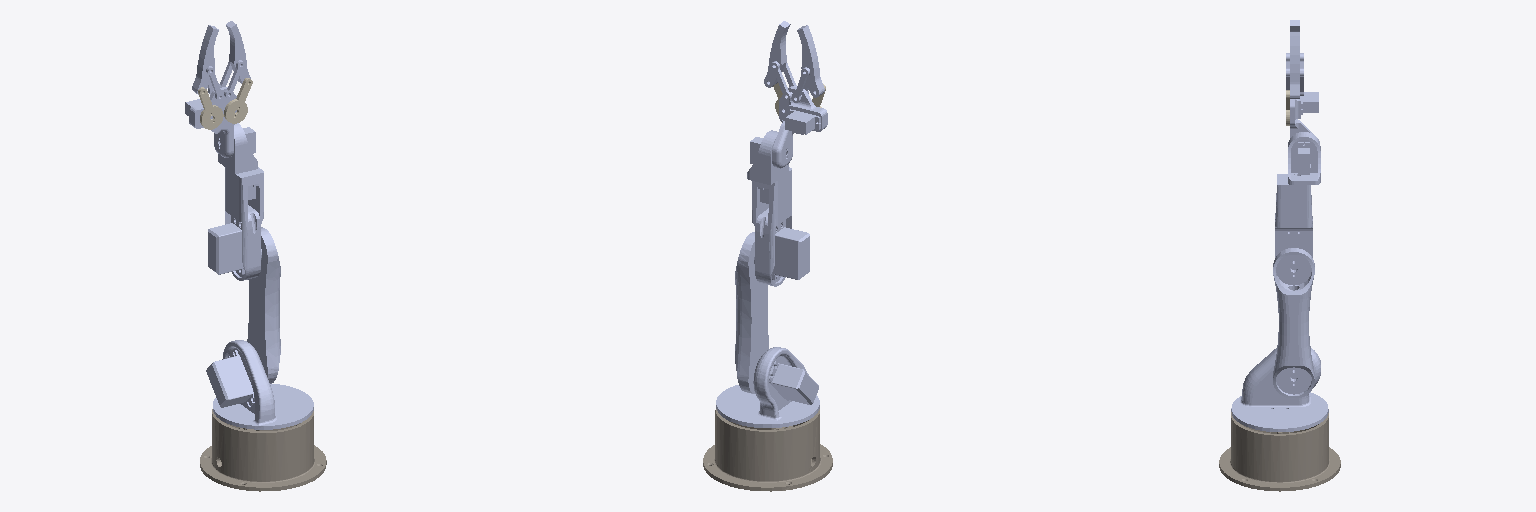
The robot description file, URDF, robot "my_urdf":
<?xml version="1.0" encoding="utf-8"?>
<!-- This URDF was automatically created by SolidWorks to URDF Exporter! Originally created by [author] ([email redacted]) 
     Commit Version: 1.6.0-4-g7f85cfe  Build Version: 1.6.7995.38578
     For more information, please see http://wiki.ros.org/sw_urdf_exporter -->
<robot
  name="my_urdf">
    <!-- 添加一个虚拟的 world link -->
  <link name="world"/>

  <!-- 将 world 连接到 base_link -->
  <joint name="world_to_base" type="fixed">
    <parent link="world"/>
    <child link="base_link"/>
    <origin xyz="0 0 0" rpy="0 0 0"/>
  </joint>
  <link
    name="base_link">
    <inertial>
      <origin
        xyz="0.0025107 2.5745E-07 0.014365"
        rpy="0 0 0" />
      <mass
        value="0.13062" />
      <inertia
        ixx="0.00013435"
        ixy="1.3434E-09"
        ixz="-2.1737E-06"
        iyy="0.00013984"
        iyz="6.6089E-10"
        izz="0.00020719" />
    </inertial>
    <visual>
      <origin
        xyz="0 0 0"
        rpy="0 0 0" />
      <geometry>
        <mesh
          filename="package://my_urdf/meshes/base_link.STL" />
      </geometry>
      <material
        name="base_link_material">
        <color
          rgba="0.64706 0.61961 0.58824 1" />
      </material>
    </visual>
    <collision>
      <origin
        xyz="0 0 0"
        rpy="0 0 0" />
      <geometry>
        <mesh
          filename="package://my_urdf/meshes/base_link.STL" />
      </geometry>
    </collision>
  </link>
  <link
    name="link1">
    <inertial>
      <origin
        xyz="-0.013889 0.0031829 0.023743"
        rpy="0 0 0" />
      <mass
        value="0.10712" />
      <inertia
        ixx="7.3474E-05"
        ixy="2.0176E-08"
        ixz="6.1163E-06"
        iyy="5.7803E-05"
        iyz="-8.5396E-06"
        izz="6.7542E-05" />
    </inertial>
    <visual>
      <origin
        xyz="0 0 0"
        rpy="0 0 0" />
      <geometry>
        <mesh
          filename="package://my_urdf/meshes/link1.STL" />
      </geometry>
      <material
        name="link1_material">
        <color
          rgba="0.79216 0.81961 0.93333 1" />
      </material>
    </visual>
    <collision>
      <origin
        xyz="0 0 0"
        rpy="0 0 0" />
      <geometry>
        <mesh
          filename="package://my_urdf/meshes/link1.STL" />
      </geometry>
    </collision>
  </link>
  <joint
    name="joint1"
    type="revolute">
    <origin
      xyz="0 0 0.0494"
      rpy="0 0 0" />
    <parent
      link="base_link" />
    <child
      link="link1" />
    <axis
      xyz="0 0 1" />
    <limit
      lower="-2.09"
      upper="2.09"
      effort="1.96"
      velocity="3.14" />
  </joint>
  <link
    name="link2">
    <inertial>
      <origin
        xyz="8.5659E-08 0.059964 0.0078473"
        rpy="0 0 0" />
      <mass
        value="0.064838" />
      <inertia
        ixx="0.00010586"
        ixy="4.5428E-10"
        ixz="9.5397E-12"
        iyy="9.4488E-06"
        iyz="2.4801E-09"
        izz="0.00011087" />
    </inertial>
    <visual>
      <origin
        xyz="0 0 0"
        rpy="0 0 0" />
      <geometry>
        <mesh
          filename="package://my_urdf/meshes/link2.STL" />
      </geometry>
      <material
        name="link2_material">
        <color
          rgba="0.79216 0.81961 0.93333 1" />
      </material>
    </visual>
    <collision>
      <origin
        xyz="0 0 0"
        rpy="0 0 0" />
      <geometry>
        <mesh
          filename="package://my_urdf/meshes/link2.STL" />
      </geometry>
    </collision>
  </link>
  <joint
    name="joint2"
    type="revolute">
    <origin
      xyz="0.001 0.01391 0.04028"
      rpy="1.5708 0 1.5708" />
    <parent
      link="link1" />
    <child
      link="link2" />
    <axis
      xyz="0 0 1" />
    <limit
      lower="-1.57"
      upper="1.57"
      effort="1.96"
      velocity="3.14" />
  </joint>
  <link
    name="link3">
    <inertial>
      <origin
        xyz="1.6318E-05 -0.031392 0.019078"
        rpy="0 0 0" />
      <mass
        value="0.090982" />
      <inertia
        ixx="6.557E-05"
        ixy="-3.4803E-08"
        ixz="5.9501E-10"
        iyy="1.5641E-05"
        iyz="6.4756E-07"
        izz="6.5685E-05" />
    </inertial>
    <visual>
      <origin
        xyz="0 0 0"
        rpy="0 0 0" />
      <geometry>
        <mesh
          filename="package://my_urdf/meshes/link3.STL" />
      </geometry>
      <material
        name="link3_material">
        <color
          rgba="0.79216 0.81961 0.93333 1" />
      </material>
    </visual>
    <collision>
      <origin
        xyz="0 0 0"
        rpy="0 0 0" />
      <geometry>
        <mesh
          filename="package://my_urdf/meshes/link3.STL" />
      </geometry>
    </collision>
  </link>
  <joint
    name="joint3"
    type="revolute">
    <origin
      xyz="0 0.12 0"
      rpy="-3.1416 0 0" />
    <parent
      link="link2" />
    <child
      link="link3" />
    <axis
      xyz="0 0 1" />
    <limit
      lower="-2.09"
      upper="2.09"
      effort="1.96"
      velocity="3.14" />
  </joint>
  <link
    name="link4">
    <inertial>
      <origin
        xyz="0.0050325 0.0031741 0.017549"
        rpy="0 0 0" />
      <mass
        value="0.023188" />
      <inertia
        ixx="4.4549E-06"
        ixy="4.1467E-09"
        ixz="1.1497E-08"
        iyy="5.245E-06"
        iyz="-6.2983E-07"
        izz="2.9434E-06" />
    </inertial>
    <visual>
      <origin
        xyz="0 0 0"
        rpy="0 0 0" />
      <geometry>
        <mesh
          filename="package://my_urdf/meshes/link4.STL" />
      </geometry>
      <material
        name="link4_material">
        <color
          rgba="0.79216 0.81961 0.93333 1" />
      </material>
    </visual>
    <collision>
      <origin
        xyz="0 0 0"
        rpy="0 0 0" />
      <geometry>
        <mesh
          filename="package://my_urdf/meshes/link4.STL" />
      </geometry>
    </collision>
  </link>
  <joint
    name="joint4"
    type="revolute">
    <origin
      xyz="0.0051 -0.0916 0.0135"
      rpy="1.5708 0 0" />
    <parent
      link="link3" />
    <child
      link="link4" />
    <axis
      xyz="0 0 1" />
    <limit
      lower="-2.09"
      upper="2.09"
      effort="1.96"
      velocity="3.14" />
  </joint>
  <link
    name="link5">
    <inertial>
      <origin
        xyz="0.00382924734836193 0.0292405343212404 0.0147859518518059"
        rpy="0 0 0" />
      <mass
        value="0.0225683765881369" />
      <inertia
        ixx="8.83963263986709E-06"
        ixy="-1.28322418570414E-06"
        ixz="-3.58450440375711E-07"
        iyy="3.63520705800952E-06"
        iyz="-1.63730559254101E-06"
        izz="7.38356194215692E-06" />
    </inertial>
    <visual>
      <origin
        xyz="0 0 0"
        rpy="0 0 0" />
      <geometry>
        <mesh
          filename="package://my_urdf/meshes/link5.STL" />
      </geometry>
      <material
        name="link5_material">
        <color
          rgba="0.792156862745098 0.819607843137255 0.933333333333333 1" />
      </material>
    </visual>
    <collision>
      <origin
        xyz="0 0 0"
        rpy="0 0 0" />
      <geometry>
        <mesh
          filename="package://my_urdf/meshes/link5.STL" />
      </geometry>
    </collision>
  </link>
  <joint
    name="joint5"
    type="revolute">
    <origin
      xyz="0.005 0.01535 0.02625"
      rpy="1.5708 0 -3.1416" />
    <parent
      link="link4" />
    <child
      link="link5" />
    <axis
      xyz="0 0 1" />
    <limit
      lower="-1.57"
      upper="1.57"
      effort="1.96"
      velocity="3.14" />
  </joint>
  <link
    name="link6_left">
    <inertial>
      <origin
        xyz="0.00606767082237808 0.00200783995073988 -0.00200000001662691"
        rpy="0 0 0" />
      <mass
        value="0.00240579375710288" />
      <inertia
        ixx="1.00721310971705E-07"
        ixy="-8.05001158171013E-08"
        ixz="4.70370703065413E-18"
        iyy="3.17353677826403E-07"
        iyz="1.37078588865237E-17"
        izz="4.11659538779167E-07" />
    </inertial>
    <visual>
      <origin
        xyz="0 0 0"
        rpy="0 0 0" />
      <geometry>
        <mesh
          filename="package://my_urdf/meshes/link6_left.STL" />
      </geometry>
      <material
        name="link6_left_material">
        <color
          rgba="0.843137254901961 0.815686274509804 0.752941176470588 1" />
      </material>
    </visual>
    <collision>
      <origin
        xyz="0 0 0"
        rpy="0 0 0" />
      <geometry>
        <mesh
          filename="package://my_urdf/meshes/link6_left.STL" />
      </geometry>
    </collision>
  </link>
  <joint
    name="joint6_left"
    type="revolute">
    <origin
      xyz="0.018 0.038 0.02455"
      rpy="1.5708 0 1.5708" />
    <parent
      link="link5" />
    <child
      link="link6_left" />
    <axis
      xyz="0 0 1" />
    <limit
      lower="-0.2"
      upper="1.0"
      effort="1.96"
      velocity="3.14" />
  </joint>
  <link
    name="link7_left">
    <inertial>
      <origin
        xyz="-0.00734519517731914 0.0265831010155482 0.00500000002280107"
        rpy="0 0 0" />
      <mass
        value="0.0064459935128382" />
      <inertia
        ixx="2.07296523349927E-06"
        ixy="4.22581244927909E-07"
        ixz="-2.95683468699281E-17"
        iyy="2.09543211765178E-07"
        iyz="1.28628264267561E-16"
        izz="2.17507522005048E-06" />
    </inertial>
    <visual>
      <origin
        xyz="0 0 0"
        rpy="0 0 0" />
      <geometry>
        <mesh
          filename="package://my_urdf/meshes/link7_left.STL" />
      </geometry>
      <material
        name="link7_left_material">
        <color
          rgba="0.792156862745098 0.819607843137255 0.933333333333333 1" />
      </material>
    </visual>
    <collision>
      <origin
        xyz="0 0 0"
        rpy="0 0 0" />
      <geometry>
        <mesh
          filename="package://my_urdf/meshes/link7_left.STL" />
      </geometry>
    </collision>
  </link>
  <joint
    name="joint7_left"
    type="continuous">
    <origin
      xyz="0.029193 0.0096603 -0.004"
      rpy="3.1416 0 1.5708" />
    <parent
      link="link6_left" />
    <child
      link="link7_left" />
    <axis
      xyz="0 0 1" />
    <mimic
      joint="joint6_left"
      multiplier="1"
      offset="0" />
  </joint>
  <link
    name="link8_left">
    <inertial>
      <origin
        xyz="0.0146971742805259 0.00492372504340641 -0.00900000002019757"
        rpy="0 0 0" />
      <mass
        value="0.00159752482636938" />
      <inertia
        ixx="2.7303102737423E-08"
        ixy="-5.98131214434453E-08"
        ixz="4.92452452847807E-18"
        iyy="1.85805414785436E-07"
        iyz="2.18973473273421E-18"
        izz="2.08848451319207E-07" />
    </inertial>
    <visual>
      <origin
        xyz="0 0 0"
        rpy="0 0 0" />
      <geometry>
        <mesh
          filename="package://my_urdf/meshes/link8_left.STL" />
      </geometry>
      <material
        name="link8_left_material">
        <color
          rgba="0.792156862745098 0.819607843137255 0.933333333333333 1" />
      </material>
    </visual>
    <collision>
      <origin
        xyz="0 0 0"
        rpy="0 0 0" />
      <geometry>
        <mesh
          filename="package://my_urdf/meshes/link8_left.STL" />
      </geometry>
    </collision>
  </link>
  <joint
    name="joint8_left"
    type="continuous">
    <origin
      xyz="0.018 0.058 0.01565"
      rpy="1.5708 0 1.5708" />
    <parent
      link="link5" />
    <child
      link="link8_left" />
    <axis
      xyz="0 0 1" />
    <mimic
      joint="joint6_left"
      multiplier="1"
      offset="0" />
  </joint>
  <link
    name="link9_right">
    <inertial>
      <origin
        xyz="-0.00277730044409414 0.00575627072829776 0.0020000000115335"
        rpy="0 0 0" />
      <mass
        value="0.00240579375710288" />
      <inertia
        ixx="2.93024556974838E-07"
        ixy="1.05635399174356E-07"
        ixz="-2.32223340192349E-17"
        iyy="1.25050431823272E-07"
        iyz="2.62403805580379E-17"
        izz="4.11659538779168E-07" />
    </inertial>
    <visual>
      <origin
        xyz="0 0 0"
        rpy="0 0 0" />
      <geometry>
        <mesh
          filename="package://my_urdf/meshes/link9_right.STL" />
      </geometry>
      <material
        name="link9_right_material">
        <color
          rgba="0.843137254901961 0.815686274509804 0.752941176470588 1" />
      </material>
    </visual>
    <collision>
      <origin
        xyz="0 0 0"
        rpy="0 0 0" />
      <geometry>
        <mesh
          filename="package://my_urdf/meshes/link9_right.STL" />
      </geometry>
    </collision>
  </link>
  <joint
    name="joint9_right"
    type="continuous">
    <origin
      xyz="0.018 0.038 -0.00235"
      rpy="0 -1.5708 0" />
    <parent
      link="link5" />
    <child
      link="link9_right" />
    <axis
      xyz="0 0 1" />
    <mimic
      joint="joint6_left"
      multiplier="1"
      offset="0" />
  </joint>
  <link
    name="link10_right">
    <inertial>
      <origin
        xyz="0.0267439601043644 0.00673600396655637 -0.00500000001799825"
        rpy="0 0 0" />
      <mass
        value="0.0064459935128382" />
      <inertia
        ixx="1.91213496794507E-07"
        ixy="-3.79582580718992E-07"
        ixz="7.22249962414533E-18"
        iyy="2.09129494847001E-06"
        iyz="3.27662653427592E-18"
        izz="2.17507522005054E-06" />
    </inertial>
    <visual>
      <origin
        xyz="0 0 0"
        rpy="0 0 0" />
      <geometry>
        <mesh
          filename="package://my_urdf/meshes/link10_right.STL" />
      </geometry>
      <material
        name="link10_right_material ">
        <color
          rgba="0.792156862745098 0.819607843137255 0.933333333333333 1" />
      </material>
    </visual>
    <collision>
      <origin
        xyz="0 0 0"
        rpy="0 0 0" />
      <geometry>
        <mesh
          filename="package://my_urdf/meshes/link10_right.STL" />
      </geometry>
    </collision>
  </link>
  <joint
    name="joint10_right"
    type="continuous">
    <origin
      xyz="-0.013362 0.027695 0.004"
      rpy="3.1416 0 1.5708" />
    <parent
      link="link9_right" />
    <child
      link="link10_right" />
    <axis
      xyz="0 0 1" />
    <mimic
      joint="joint6_left"
      multiplier="1"
      offset="0" />
  </joint>
  <link
    name="link11_right">
    <inertial>
      <origin
        xyz="-0.00655664333868619 0.0140449431524884 0.00899999999847946"
        rpy="0 0 0" />
      <mass
        value="0.00159752482636938" />
      <inertia
        ixx="1.70310502953805E-07"
        ixy="7.61150218710589E-08"
        ixz="-8.75120327723677E-18"
        iyy="4.27980145690528E-08"
        iyz="1.77383004666499E-17"
        izz="2.08848451319207E-07" />
    </inertial>
    <visual>
      <origin
        xyz="0 0 0"
        rpy="0 0 0" />
      <geometry>
        <mesh
          filename="package://my_urdf/meshes/link11_right.STL" />
      </geometry>
      <material
        name="link11_right_material">
        <color
          rgba="0.792156862745098 0.819607843137255 0.933333333333333 1" />
      </material>
    </visual>
    <collision>
      <origin
        xyz="0 0 0"
        rpy="0 0 0" />
      <geometry>
        <mesh
          filename="package://my_urdf/meshes/link11_right.STL" />
      </geometry>
    </collision>
  </link>
  <joint
    name="joint11_right"
    type="continuous">
    <origin
      xyz="0.018 0.058 0.00565"
      rpy="0 -1.5708 0" />
    <parent
      link="link5" />
    <child
      link="link11_right" />
    <axis
      xyz="0 0 1" />
    <mimic
      joint="joint6_left"
      multiplier="1"
      offset="0" />
  </joint>
</robot>

--- Render facts (derived) ---
The picture shows the robot from 3 angles, left to right: view 1: azimuth 30°, elevation 25°; view 2: azimuth 150°, elevation 25°; view 3: azimuth 270°, elevation 25°; orthographic projection.
Robot: my_urdf — 13 links, 12 joints (6 revolute, 5 continuous, 1 fixed); root link world; default pose: all joints at 0.
Visible links, largest first — view 1: base_link, link1, link3, link2, link5, link4, link7_left, link10_right, link9_right, link6_left; view 2: base_link, link1, link3, link2, link5, link4, link7_left, link10_right; view 3: base_link, link2, link1, link3, link4, link5, link10_right.
Boxes of the visible links, x1,y1,x2,y2 form: base_link: (200,409,326,491); link1: (206,340,313,429); link3: (208,167,263,280); link2: (247,227,280,383); link5: (185,87,236,157); link4: (218,123,257,173); link7_left: (192,25,218,94); link10_right: (226,21,250,83); link9_right: (224,78,252,123); link6_left: (198,87,223,129); base_link: (703,409,832,491); link1: (716,347,819,427); link3: (752,167,809,286); link2: (735,232,768,393); link5: (772,86,827,168); link4: (747,130,788,184); link7_left: (797,25,824,97); link10_right: (764,21,790,87); base_link: (1219,412,1340,491); link2: (1273,248,1314,398); link1: (1231,348,1328,431); link3: (1275,174,1312,269); link4: (1288,132,1320,184); link5: (1290,92,1318,148); link10_right: (1290,32,1299,98).
Size in the robot's own frame: 0.1305 by 0.1213 by 0.4674 metres.
Meshes: 12 distinct files referenced, 12 mesh visuals loaded (12 binary STL).
